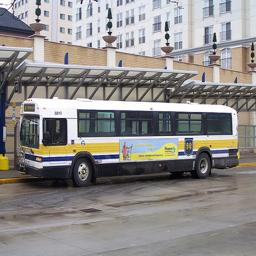bus: (124, 145, 256, 256)
